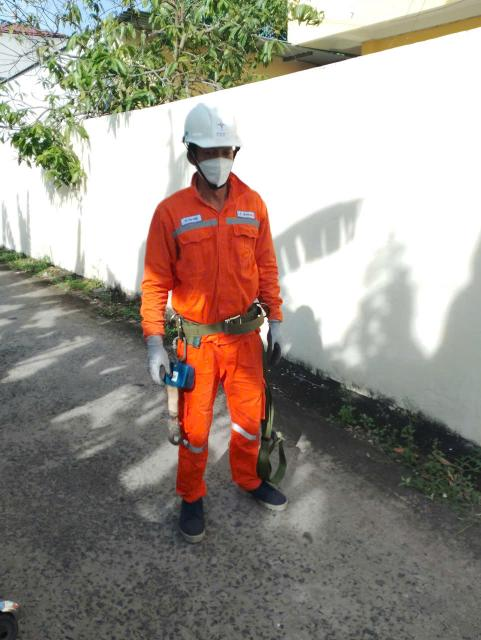gloves: (139, 333, 184, 393), (258, 308, 294, 357)
harness: (159, 297, 282, 348)
helmet: (163, 98, 252, 159)
shoes: (230, 471, 296, 522), (168, 490, 218, 549)
